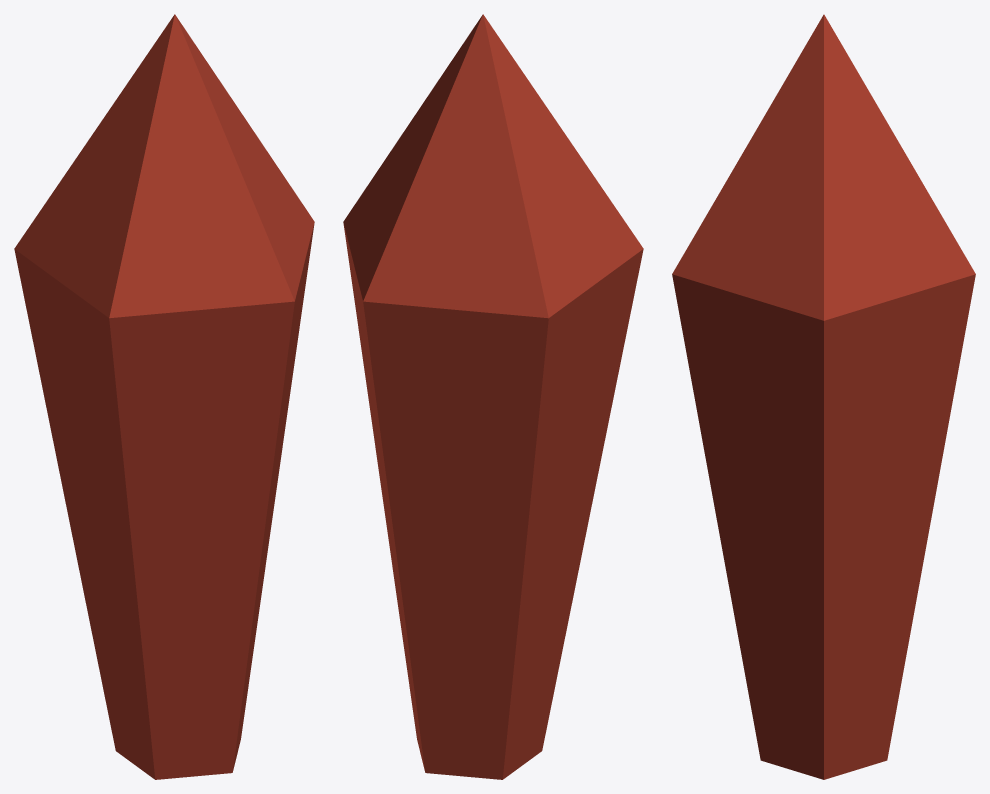
Rendered from crystal_alt.glb.
The picture shows the model from 3 angles, left to right: view 1: azimuth 30°, elevation 25°; view 2: azimuth 150°, elevation 25°; view 3: azimuth 270°, elevation 25°; orthographic projection.
Parts seen in each view (by area): view 1: SM_Env_Dungeon_Crystal_02; view 2: SM_Env_Dungeon_Crystal_02; view 3: SM_Env_Dungeon_Crystal_02.
Boxes of the visible parts, left/top/right/bottom form: SM_Env_Dungeon_Crystal_02: left=14, top=14, right=314, bottom=779; SM_Env_Dungeon_Crystal_02: left=343, top=14, right=643, bottom=779; SM_Env_Dungeon_Crystal_02: left=672, top=14, right=975, bottom=779.
Size of the model in its own units: 0.2113 by 0.5922 by 0.2222.
1 material, 1 textured.
